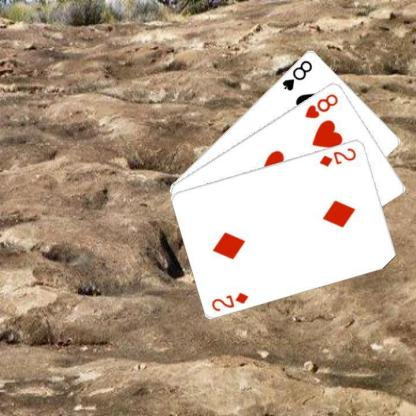2D: (317, 145, 358, 168), (209, 290, 250, 312)
8H: (302, 90, 340, 119)
8S: (279, 57, 314, 92)
